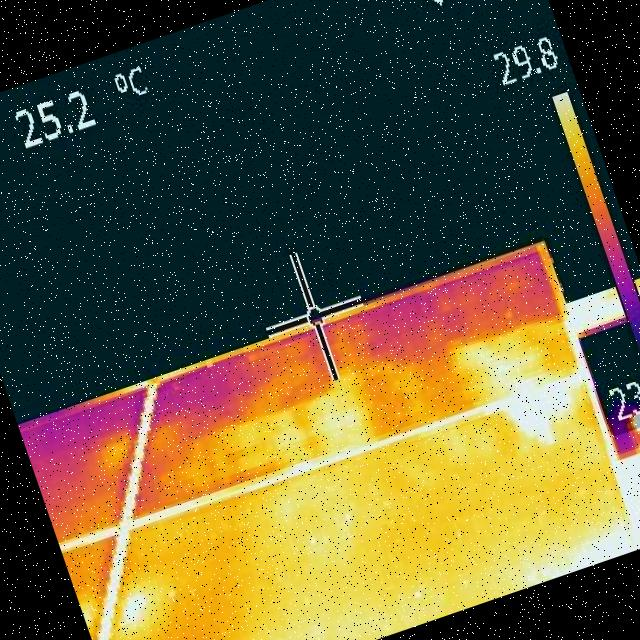Hotspot: (474, 375, 590, 469), (448, 312, 556, 406), (524, 525, 626, 582), (107, 579, 165, 640), (314, 387, 369, 446)
